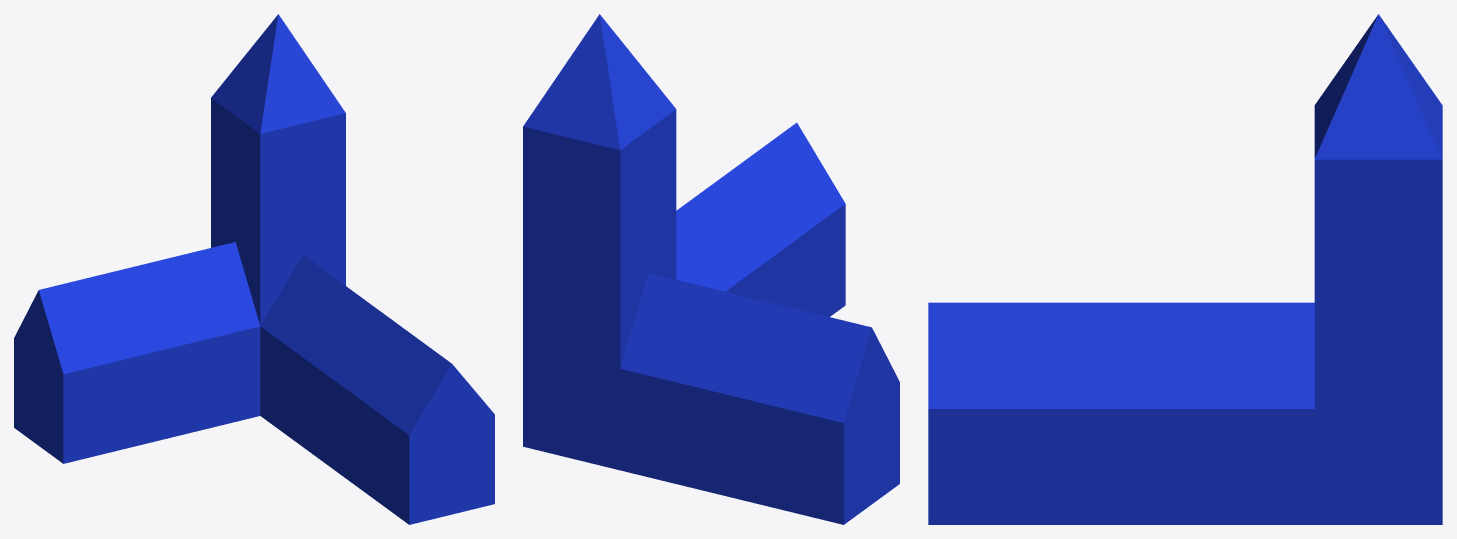
Rendered from simple_shape.glb.
3 views of the same model, side by side, from view 1: azimuth 30°, elevation 25°; view 2: azimuth 150°, elevation 25°; view 3: azimuth 270°, elevation 25° (orthographic). The views are drawn at different scales.
Parts seen in each view (by area): view 1: Cube; view 2: Cube; view 3: Cube.
Boxes of the visible parts, x1,y1,x2,y2 form: Cube: (14,14,494,524); Cube: (523,14,899,524); Cube: (928,14,1442,524).
Bounding box in the file's own units: 6.6 × 8.33 × 8.03.
